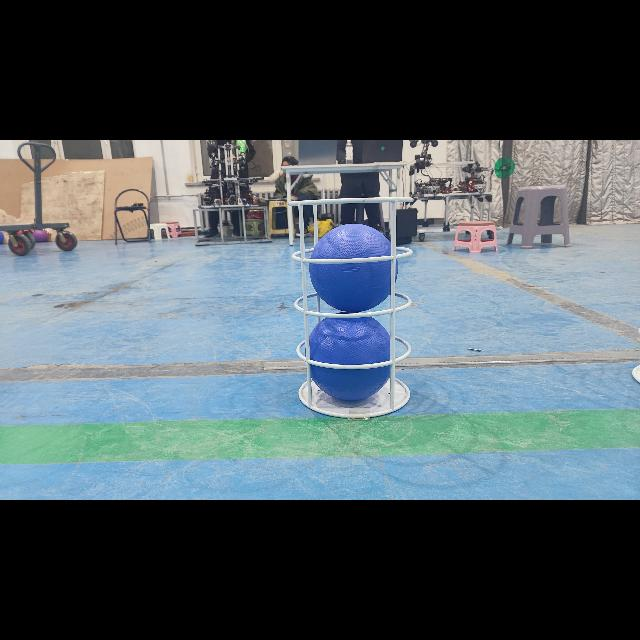B: (310, 223, 398, 313), (306, 314, 394, 401)
S: (282, 192, 420, 422)
